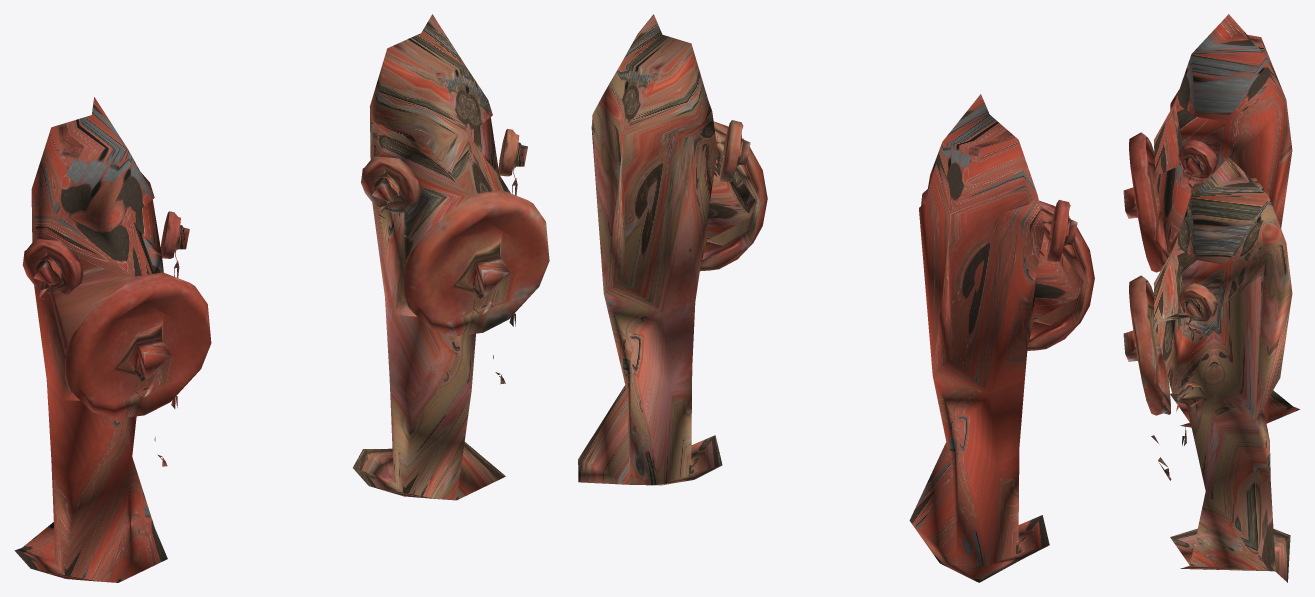
File: fire_hydrant.gltf
3 views of the same model, side by side, from view 1: azimuth 30°, elevation 25°; view 2: azimuth 150°, elevation 25°; view 3: azimuth 270°, elevation 25° (orthographic). The views are drawn at different scales.
Parts seen in each view (by area): view 1: object 1, object 2, fire_hydrant_cap_01_aged, fire_hydrant_cap_01, fire_hydrant_cap_03_aged, fire_hydrant_cap_03, fire_hydrant_cap_02_aged, fire_hydrant_cap_02; view 2: object 1, object 2, fire_hydrant_cap_01, fire_hydrant_cap_01_aged, fire_hydrant_cap_03, fire_hydrant_cap_03_aged; view 3: object 2, object 1, fire_hydrant_cap_01_aged, fire_hydrant_cap_01, fire_hydrant_cap_02_aged, fire_hydrant_cap_02, fire_hydrant_chain_aged.
Boxes of the visible parts, <box> form: object 1: <box>14,97,167,582</box>; object 2: <box>353,14,510,500</box>; fire_hydrant_cap_01_aged: <box>403,190,549,336</box>; fire_hydrant_cap_01: <box>65,272,211,418</box>; fire_hydrant_cap_03_aged: <box>361,156,421,213</box>; fire_hydrant_cap_03: <box>22,239,83,294</box>; fire_hydrant_cap_02_aged: <box>498,129,527,176</box>; fire_hydrant_cap_02: <box>160,211,189,258</box>; object 1: <box>909,94,1083,582</box>; object 2: <box>578,14,756,485</box>; fire_hydrant_cap_01: <box>1027,200,1094,350</box>; fire_hydrant_cap_01_aged: <box>700,121,767,271</box>; fire_hydrant_cap_03: <box>1047,200,1077,261</box>; fire_hydrant_cap_03_aged: <box>719,120,750,181</box>; object 2: <box>1153,157,1292,582</box>; object 1: <box>1154,14,1299,427</box>; fire_hydrant_cap_01_aged: <box>1123,275,1170,415</box>; fire_hydrant_cap_01: <box>1123,132,1169,272</box>; fire_hydrant_cap_02_aged: <box>1178,283,1217,322</box>; fire_hydrant_cap_02: <box>1178,140,1217,179</box>; fire_hydrant_chain_aged: <box>1151,298,1204,480</box>.
Bounding box in the file's own units: 0.8738 × 0.7975 × 0.3137.
Materials: 2 (2 with a texture image).
